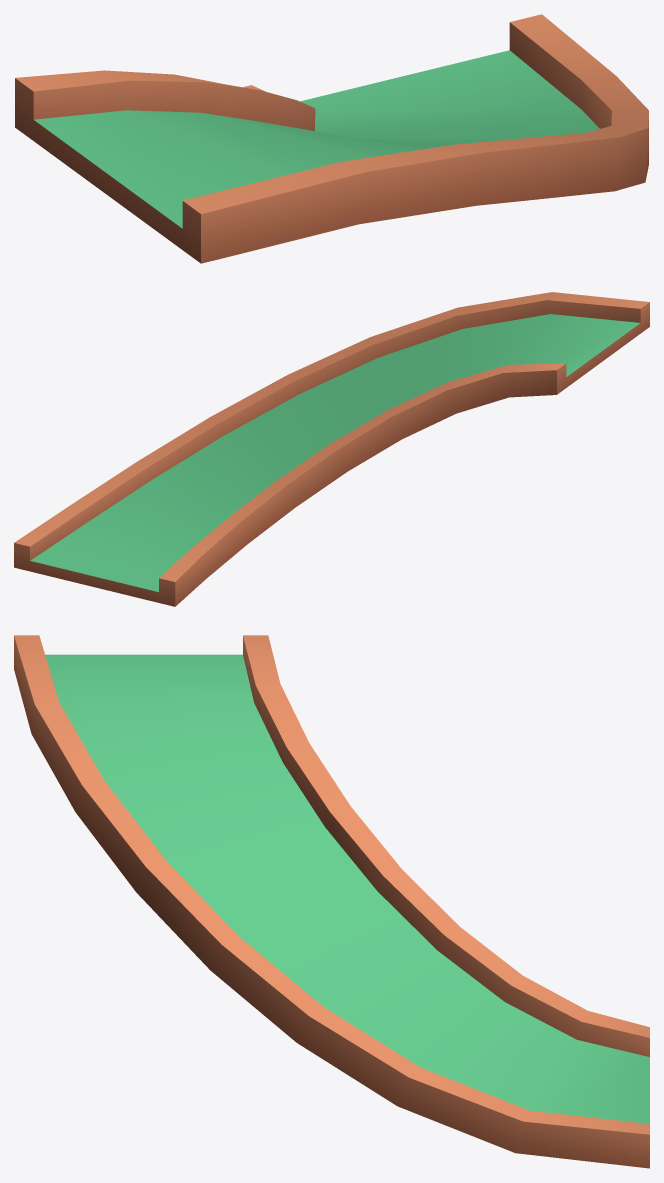
Rendered from spline-default-corner-small-ramp.glb.
3 renders of one model, top to bottom at view 1: azimuth 30°, elevation 25°; view 2: azimuth 150°, elevation 25°; view 3: azimuth 270°, elevation 25°, orthographic. The views are drawn at different scales.
Visible parts, largest first — view 1: spline-default-corner-small-ramp; view 2: spline-default-corner-small-ramp; view 3: spline-default-corner-small-ramp.
Part boxes in pixels (box(x1,y1,x2,y2)): spline-default-corner-small-ramp: box(15, 14, 648, 263); spline-default-corner-small-ramp: box(14, 292, 649, 606); spline-default-corner-small-ramp: box(14, 635, 649, 1168).
Size of the model in its own units: 2.5 by 1.15 by 2.5.
1 material, 1 textured.
